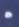Squash-Ball: (0, 1, 19, 27)
